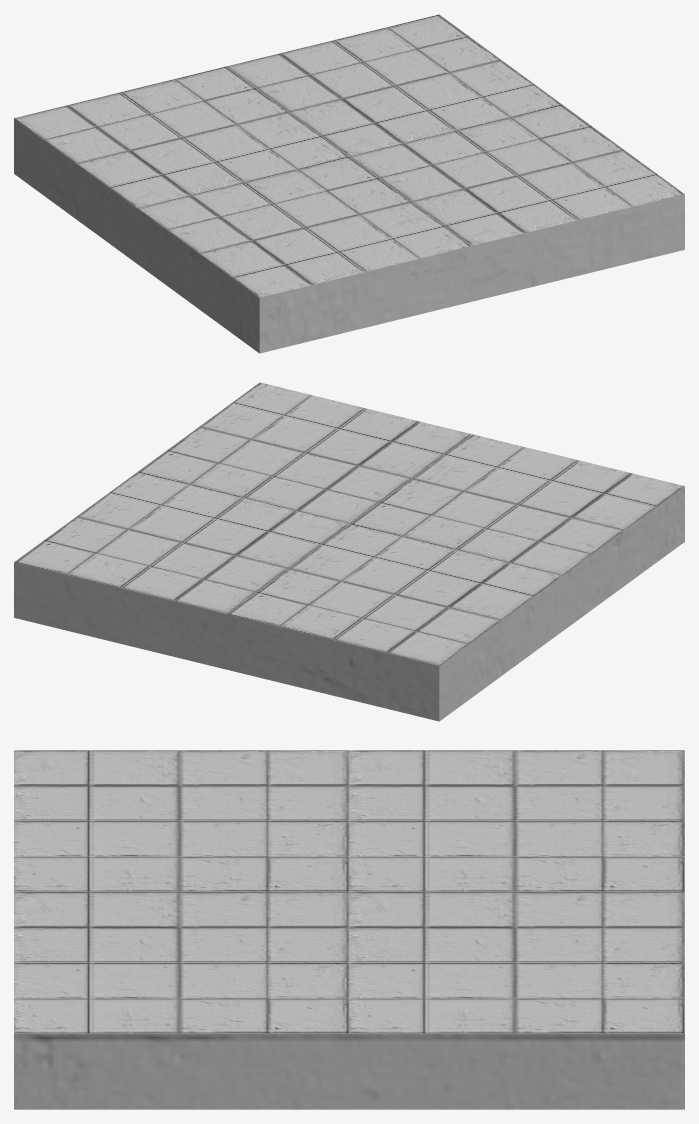
Rendered from Suelo_3.fbx.
3 views of the same model, one above another, from view 1: azimuth 30°, elevation 25°; view 2: azimuth 150°, elevation 25°; view 3: azimuth 270°, elevation 25° (orthographic). The views are drawn at different scales.
Visible parts, largest first — view 1: Cube.001; view 2: Cube.001; view 3: Cube.001.
Part boxes in pixels (left/top/right/bottom): Cube.001: left=14, top=14, right=684, bottom=353; Cube.001: left=14, top=382, right=684, bottom=721; Cube.001: left=14, top=750, right=684, bottom=1109.
Bounding box in the file's own units: 4 × 0.5 × 4.
